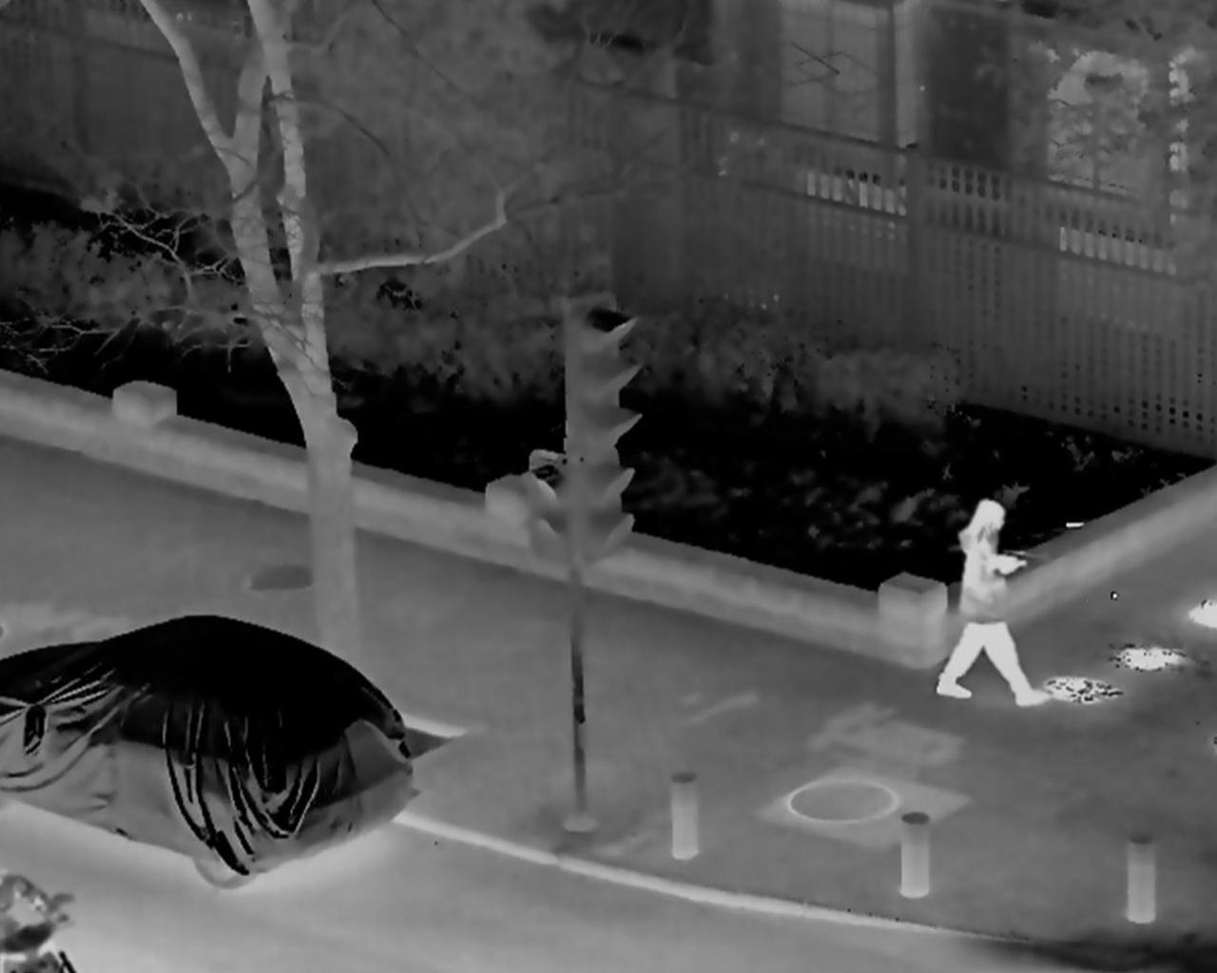person: (939, 498, 1043, 707)
